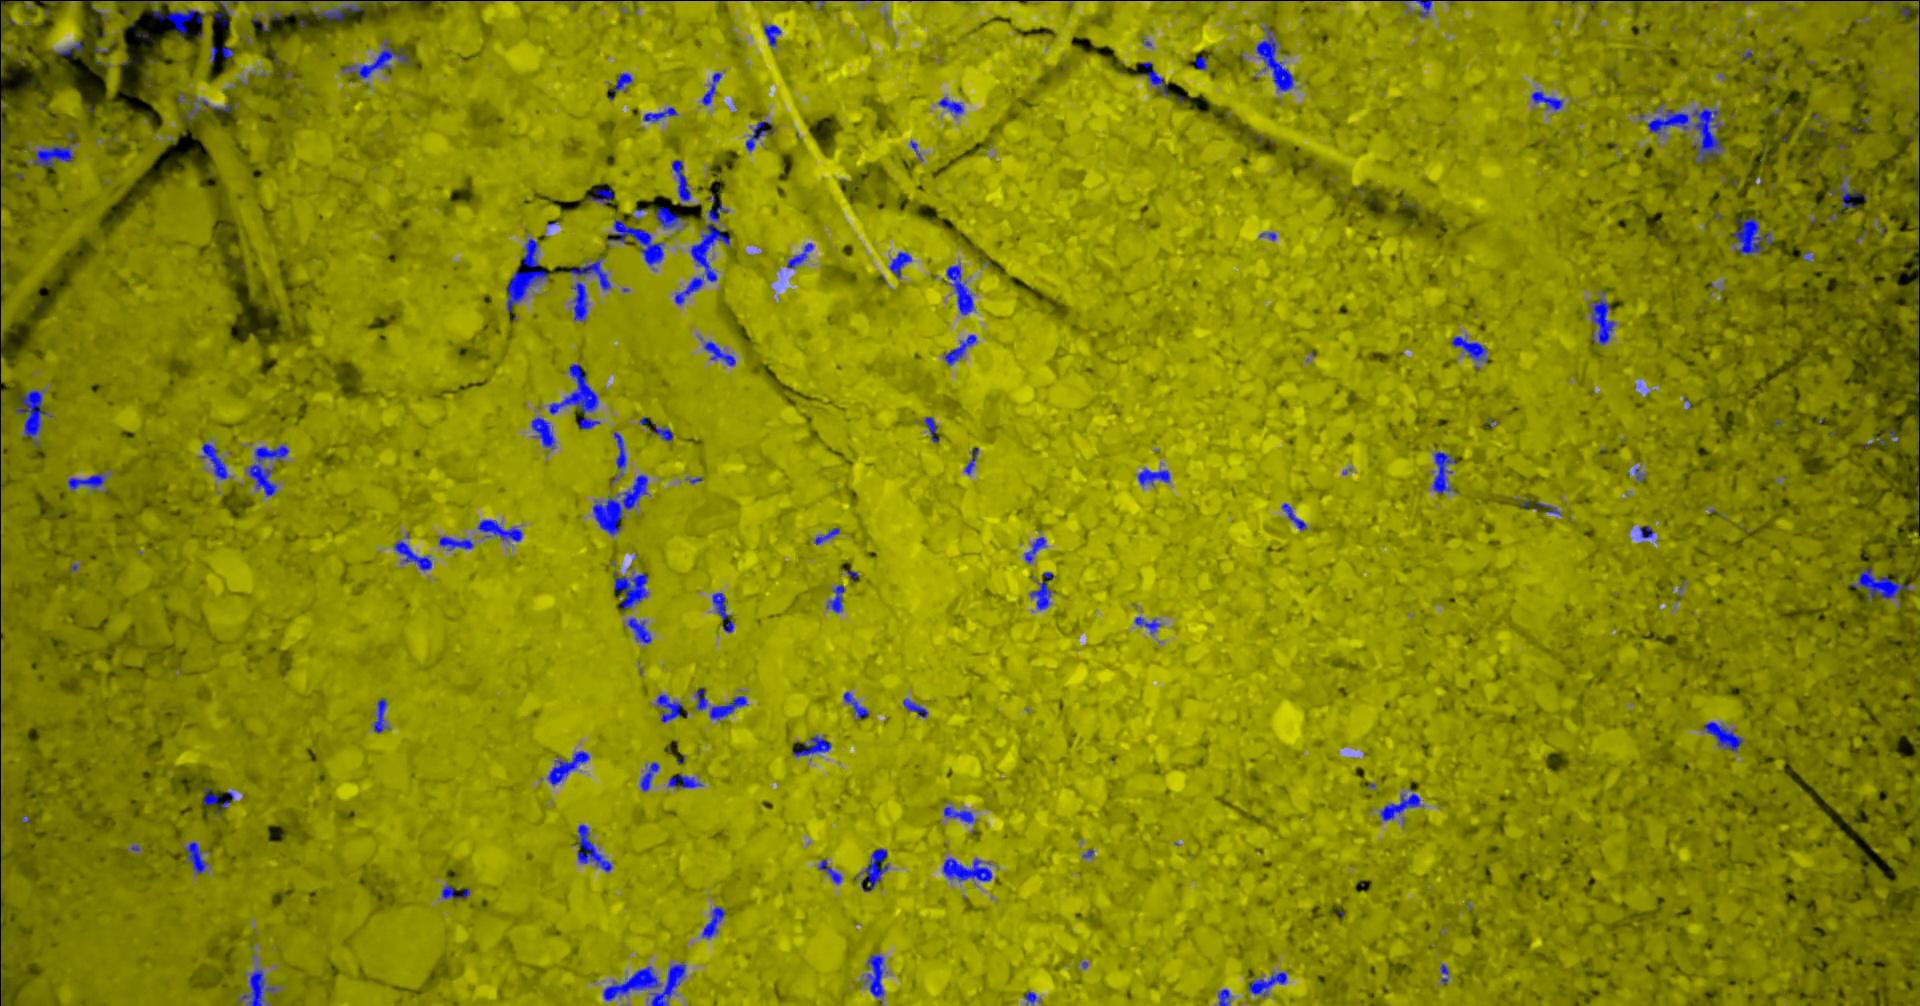ant: (549, 363, 599, 429), (607, 218, 663, 271), (1255, 27, 1294, 91), (342, 41, 410, 77), (248, 445, 288, 495), (1849, 567, 1909, 600), (14, 390, 46, 447), (695, 688, 747, 720), (1731, 216, 1773, 255), (577, 824, 611, 871), (943, 265, 974, 315), (32, 130, 72, 166), (547, 751, 589, 785), (237, 968, 276, 1005), (151, 9, 204, 34), (569, 257, 610, 290), (612, 572, 648, 608), (1379, 788, 1418, 821), (860, 848, 888, 890), (942, 857, 990, 882), (1589, 298, 1614, 344), (392, 540, 430, 570), (1703, 721, 1742, 751), (863, 954, 886, 1001), (1247, 970, 1286, 997), (201, 442, 229, 479), (943, 334, 977, 365), (1450, 335, 1487, 362), (1140, 61, 1168, 95), (1432, 451, 1455, 493), (477, 520, 521, 541), (745, 119, 775, 151), (610, 431, 626, 485), (711, 592, 733, 633), (670, 159, 690, 205), (1837, 180, 1865, 211), (1029, 572, 1051, 608), (317, 3, 361, 22), (184, 841, 208, 874), (792, 735, 830, 756), (703, 340, 735, 365), (701, 906, 725, 937), (531, 417, 554, 448), (657, 694, 682, 721), (66, 473, 105, 490), (843, 691, 869, 718), (1281, 502, 1305, 530), (701, 72, 721, 105), (571, 281, 588, 321), (1530, 90, 1562, 111), (786, 243, 811, 268), (608, 72, 632, 99), (1137, 467, 1170, 486), (627, 617, 651, 643), (817, 857, 841, 883), (639, 762, 659, 791), (888, 251, 910, 277), (202, 788, 232, 807), (1023, 536, 1045, 563), (655, 206, 681, 227), (825, 584, 844, 612), (438, 535, 472, 550), (180, 102, 204, 123), (0, 3, 14, 39), (373, 699, 389, 732), (943, 807, 974, 823), (667, 774, 702, 788), (643, 107, 677, 121), (938, 97, 963, 116), (902, 699, 927, 716), (1134, 616, 1161, 633), (212, 0, 229, 25), (56, 39, 81, 56), (814, 527, 839, 544), (210, 44, 232, 62), (587, 188, 613, 203), (964, 446, 978, 474), (441, 884, 469, 898), (763, 24, 781, 46), (1411, 0, 1432, 17), (923, 417, 937, 442), (1535, 500, 1559, 514), (210, 103, 235, 116), (651, 426, 672, 441), (1023, 989, 1039, 1005), (1217, 988, 1230, 1005), (1639, 525, 1655, 537), (1439, 963, 1448, 983), (1194, 55, 1206, 69), (114, 0, 168, 3), (1917, 290, 1919, 352)
